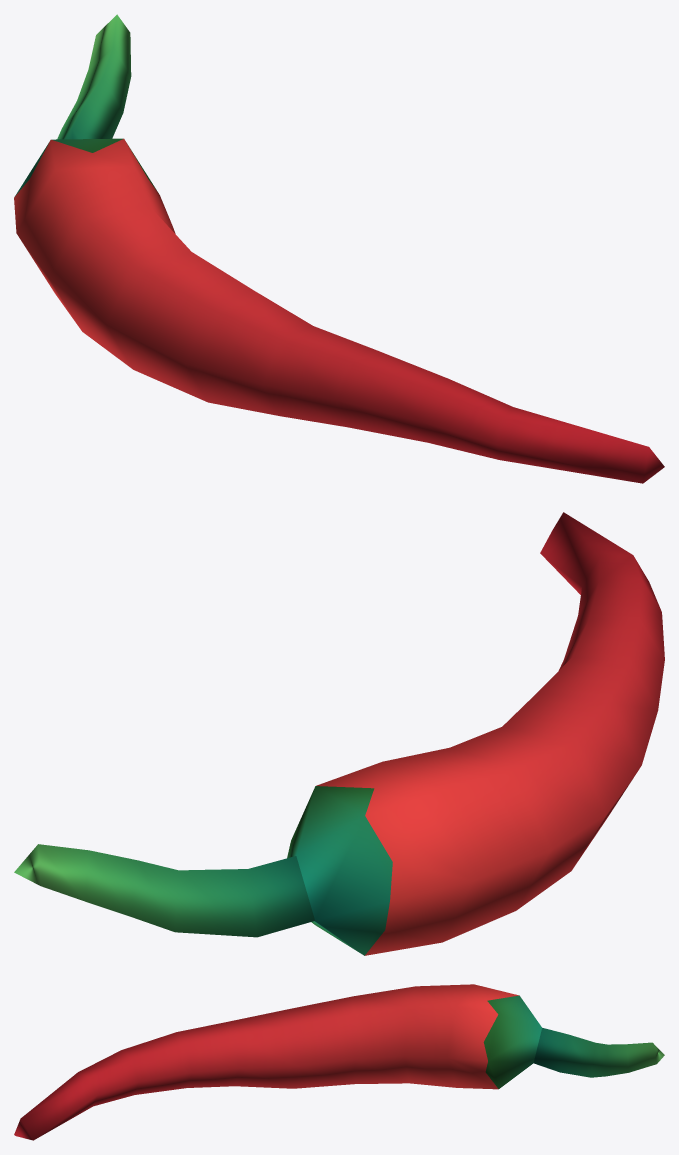
The model's file is chili_002.fbx.
3 renders of one model, top to bottom at view 1: azimuth 30°, elevation 25°; view 2: azimuth 150°, elevation 25°; view 3: azimuth 270°, elevation 25°, orthographic. The views are drawn at different scales.
Visible parts, largest first — view 1: chili_002; view 2: chili_002; view 3: chili_002.
Boxes of the visible parts, <box> form: chili_002: <box>14,14,664,483</box>; chili_002: <box>14,512,664,955</box>; chili_002: <box>14,984,664,1140</box>.
Size of the model in its own units: 7.91 by 3.41 by 22.16.
